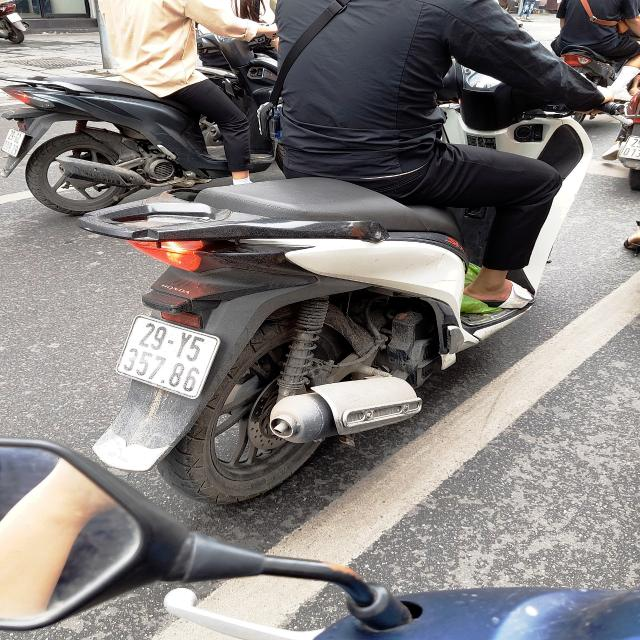license_plate: (107, 309, 230, 406), (1, 127, 28, 159)
